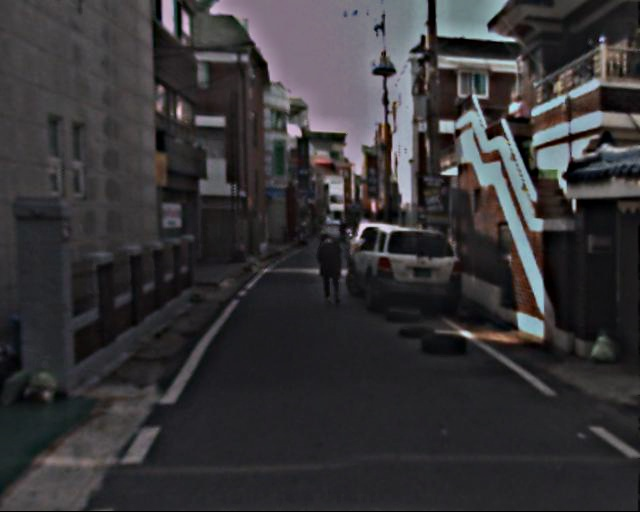person: (313, 233, 344, 309)
